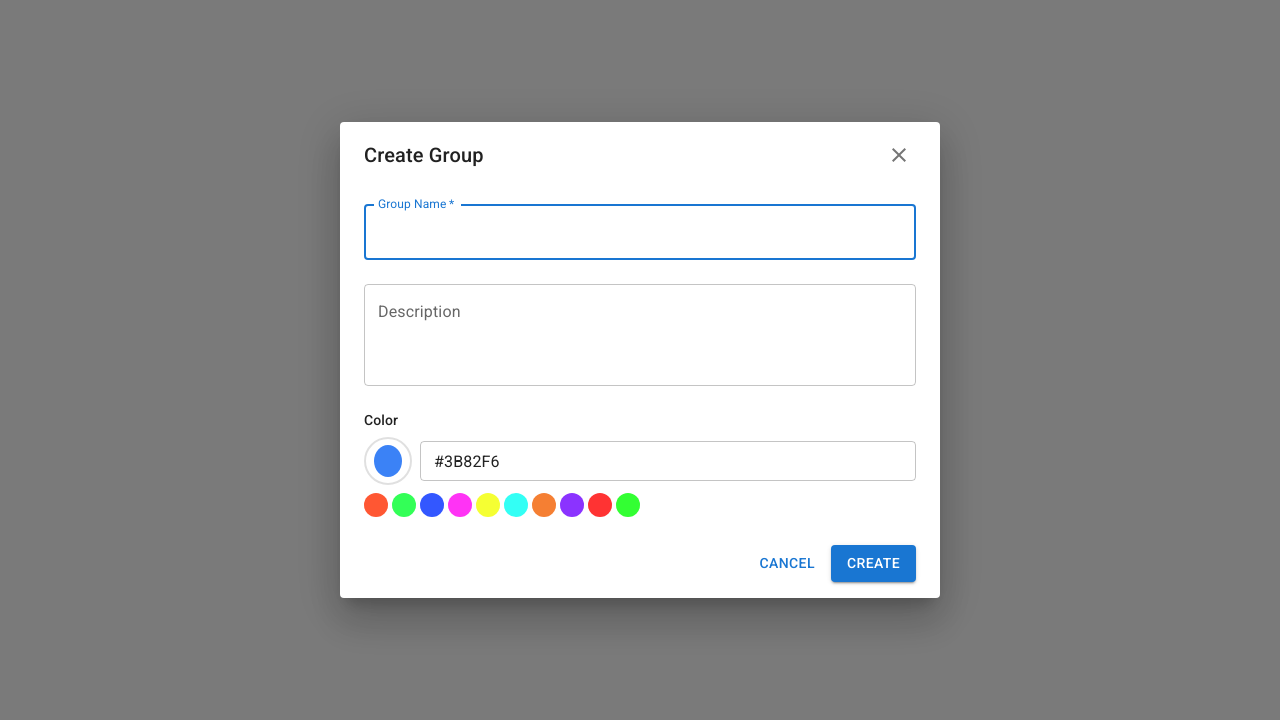
Test case: GroupManagementDialog Component › Create Group Mode › should validate required fields on create
The width and height of the screenshot is (1280, 720).
Click the button "Create". click: (873, 563)
box: [831,545,916,582]
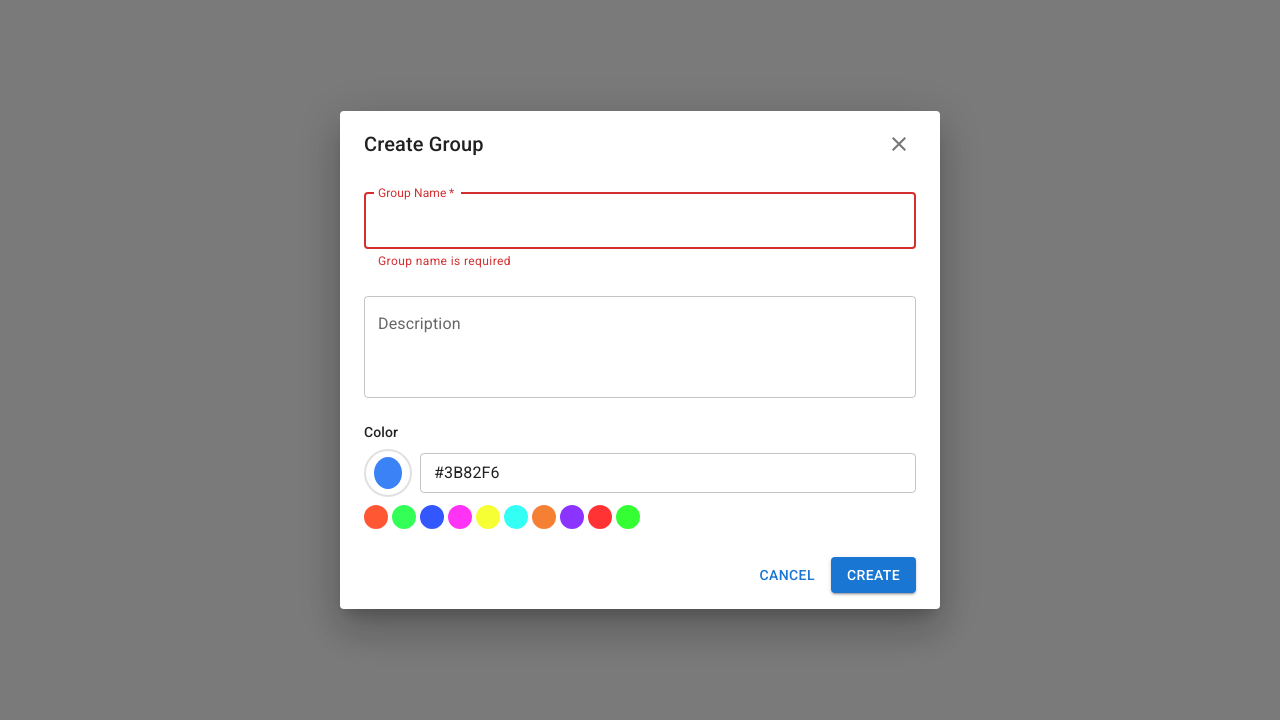
Check: the text "Group name is required" is shown, box [378,254,511,268]
